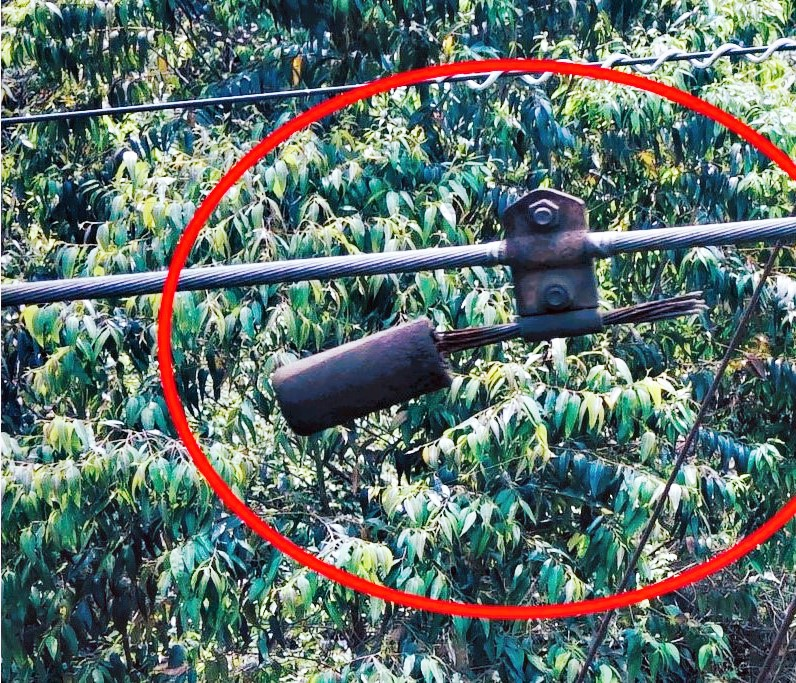Damage of shockproof hammer: (264, 173, 709, 444)
